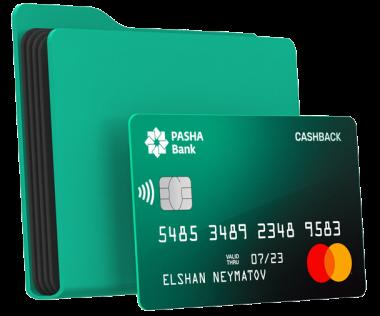Pasha Bank: (142, 126, 170, 157)
